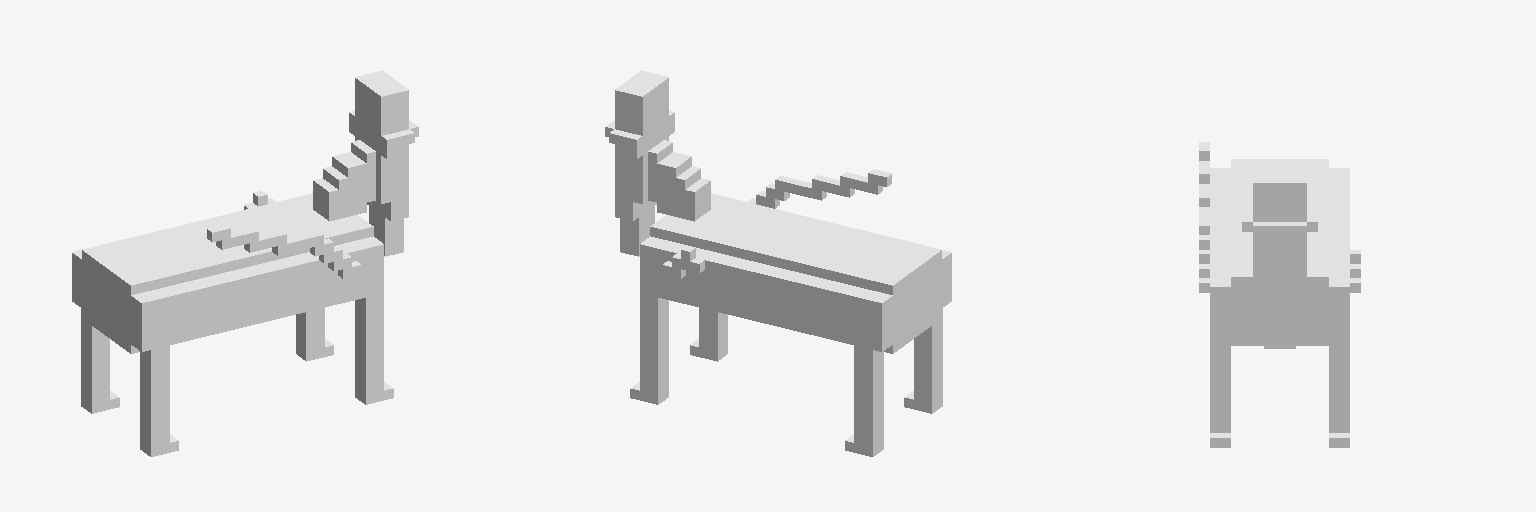
Rendered from deco_statue_winged_lion.obj.
The picture shows the model from 3 angles: view 1: azimuth 30°, elevation 25°; view 2: azimuth 150°, elevation 25°; view 3: azimuth 270°, elevation 25°; orthographic projection.
Parts seen in each view (by area): view 1: deco_statue_winged_lion; view 2: deco_statue_winged_lion; view 3: deco_statue_winged_lion.
Boxes of the visible parts, x1=… form: deco_statue_winged_lion: x1=72, y1=70, x2=418, y2=456; deco_statue_winged_lion: x1=605, y1=70, x2=951, y2=456; deco_statue_winged_lion: x1=1199, y1=142, x2=1360, y2=447.
Size of the model in its own units: 32 by 29 by 15.